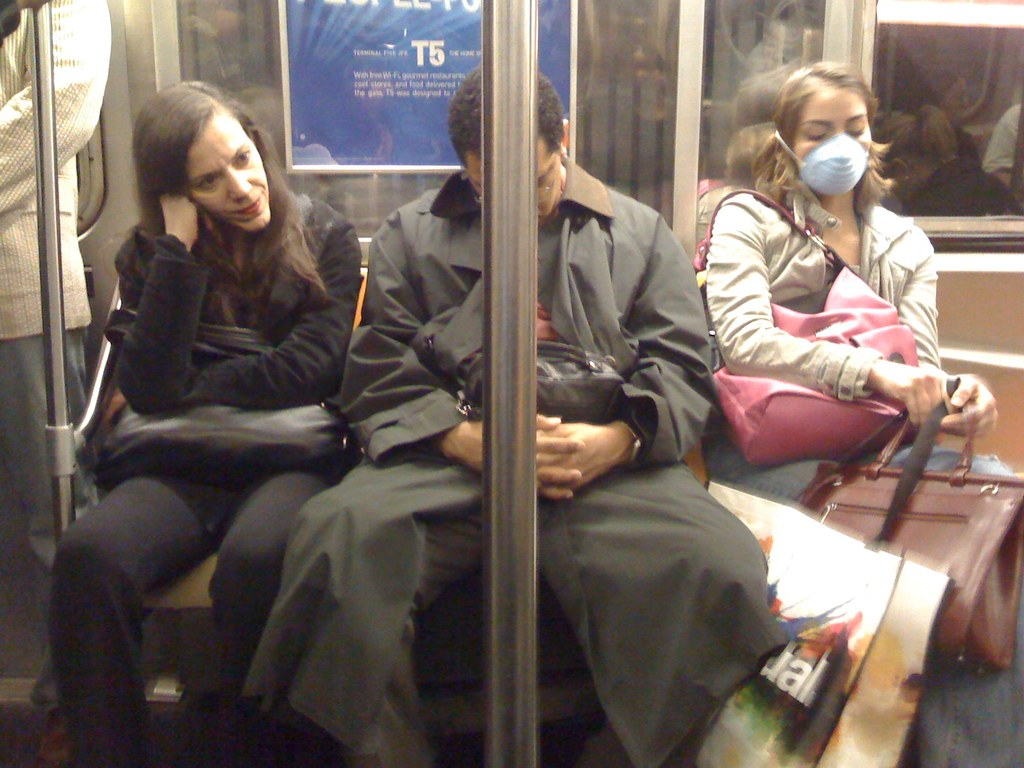mask: (802, 139, 871, 196)
